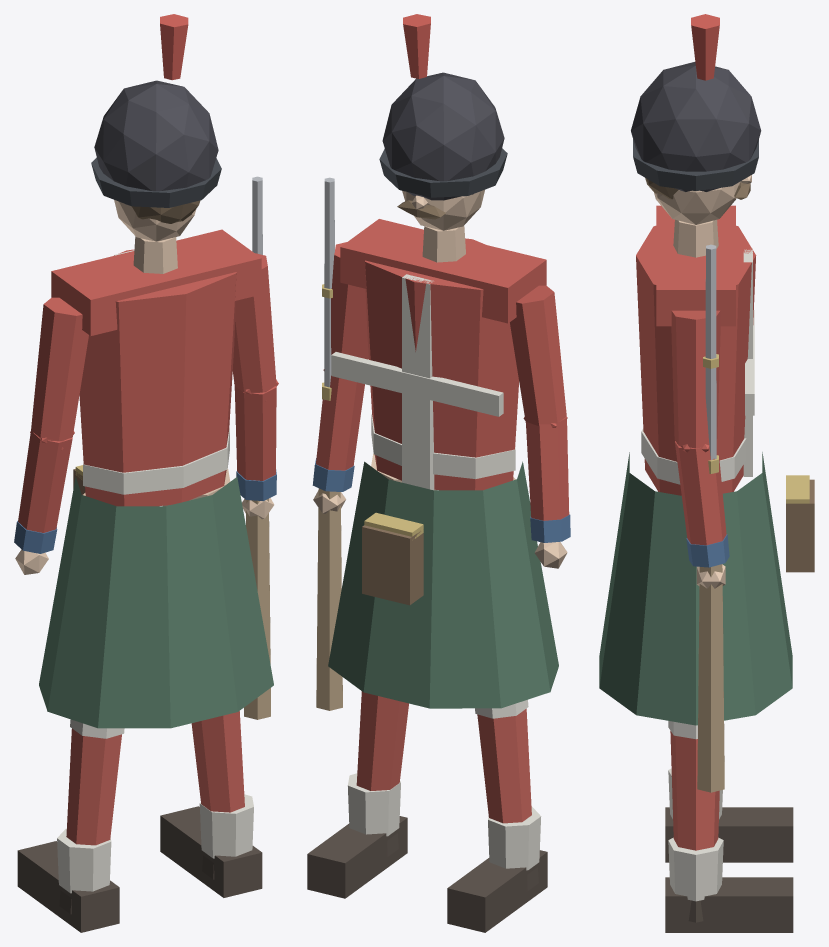
Rendered from black_watch_order_arms.glb.
3 views of the same model, side by side, from view 1: azimuth 30°, elevation 25°; view 2: azimuth 150°, elevation 25°; view 3: azimuth 270°, elevation 25° (orthographic). The views are drawn at different scales.
Visible parts, largest first — view 1: scarlet, tartan_g, feather, hose_red, boot, buff, skin, wood_lt, tartan_k, facing_blue, hackle, hair (+2 smaller); view 2: scarlet, tartan_g, buff, feather, boot, hose_red, wood_lt, skin, leather, tartan_k, facing_blue, steel (+2 smaller); view 3: tartan_g, scarlet, feather, boot, buff, wood_lt, hose_red, skin, tartan_k, steel, leather, hackle (+3 smaller).
Part boxes in pixels (x1,y1,x2,y2): scarlet: (18,229,278,532); tartan_g: (39,477,273,728); feather: (94,80,218,204); hose_red: (66,711,244,845); boot: (17,806,262,932); buff: (57,250,253,893); skin: (15,200,274,574); wood_lt: (244,498,270,719); tartan_k: (91,157,221,207); facing_blue: (14,469,276,553); hackle: (160,14,188,80); hair: (131,200,200,223); scarlet: (316,219,569,520); tartan_g: (328,461,558,708); buff: (331,274,541,870); feather: (382,72,504,200); boot: (307,816,547,932); hose_red: (356,691,531,823); wood_lt: (316,488,342,710); skin: (313,189,567,568); leather: (362,525,423,605); tartan_k: (379,148,507,197); facing_blue: (312,458,570,542); steel: (324,177,334,400); tartan_g: (599,452,792,725); scarlet: (636,205,756,545); feather: (631,62,761,191); boot: (665,807,793,932); buff: (641,248,754,901); wood_lt: (697,564,724,792); hose_red: (670,731,719,850); skin: (654,175,751,588); tartan_k: (633,139,758,190); steel: (705,244,716,460); leather: (786,479,814,572); hackle: (691,14,719,80).
Bounding box in the file's own units: 0.6442 × 2.09 × 0.4628.
